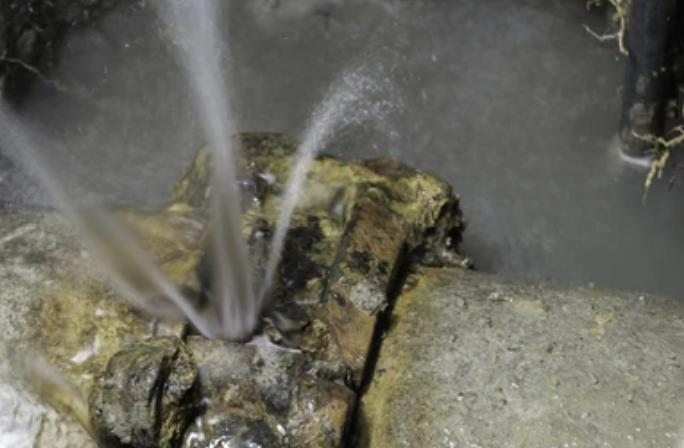pipe burst: (0, 1, 388, 346)
